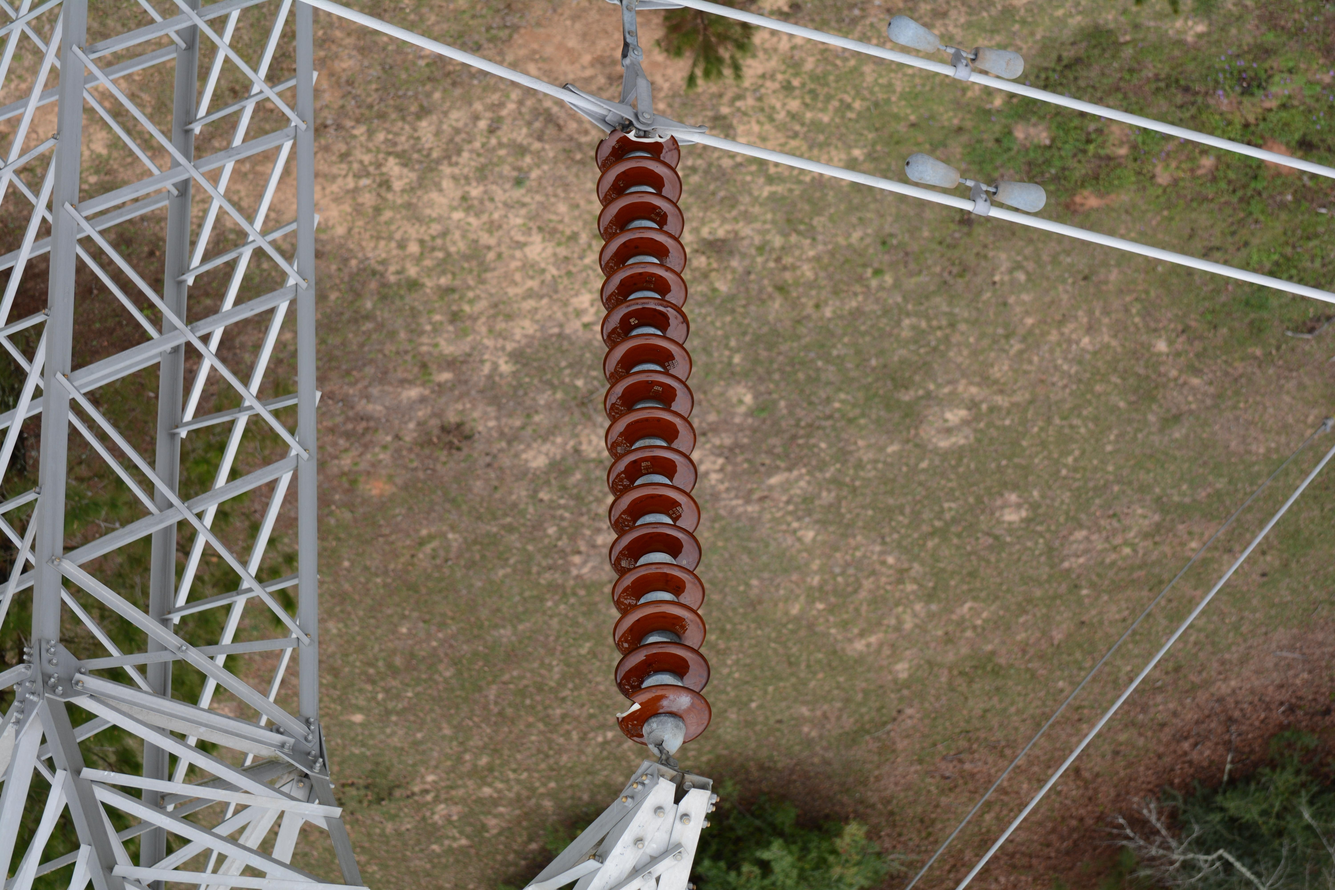damaged: (610, 685, 651, 729), (613, 126, 675, 152)
hammer: (898, 152, 1051, 221), (884, 12, 1028, 80)
insulator: (594, 130, 722, 740)
